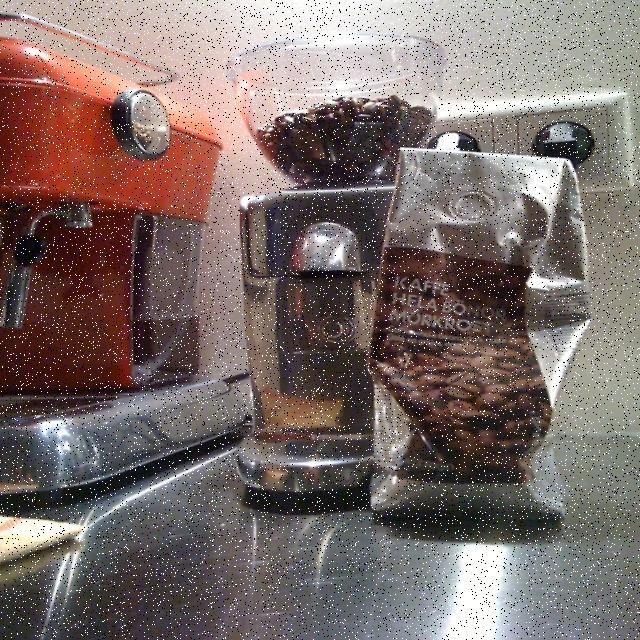Coffee-Machine: (216, 0, 456, 516), (4, 0, 232, 398)
